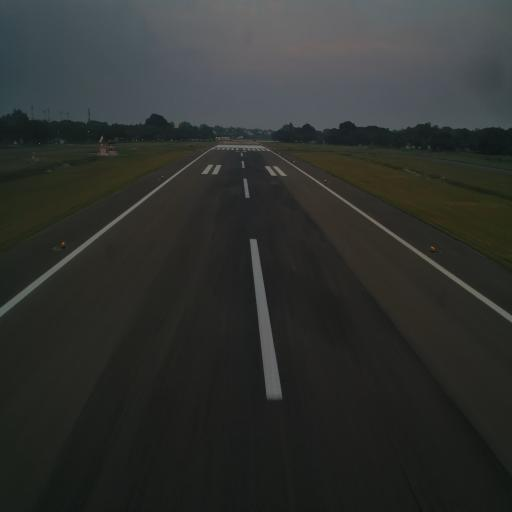on: (430, 244, 436, 256), (59, 239, 67, 248)
